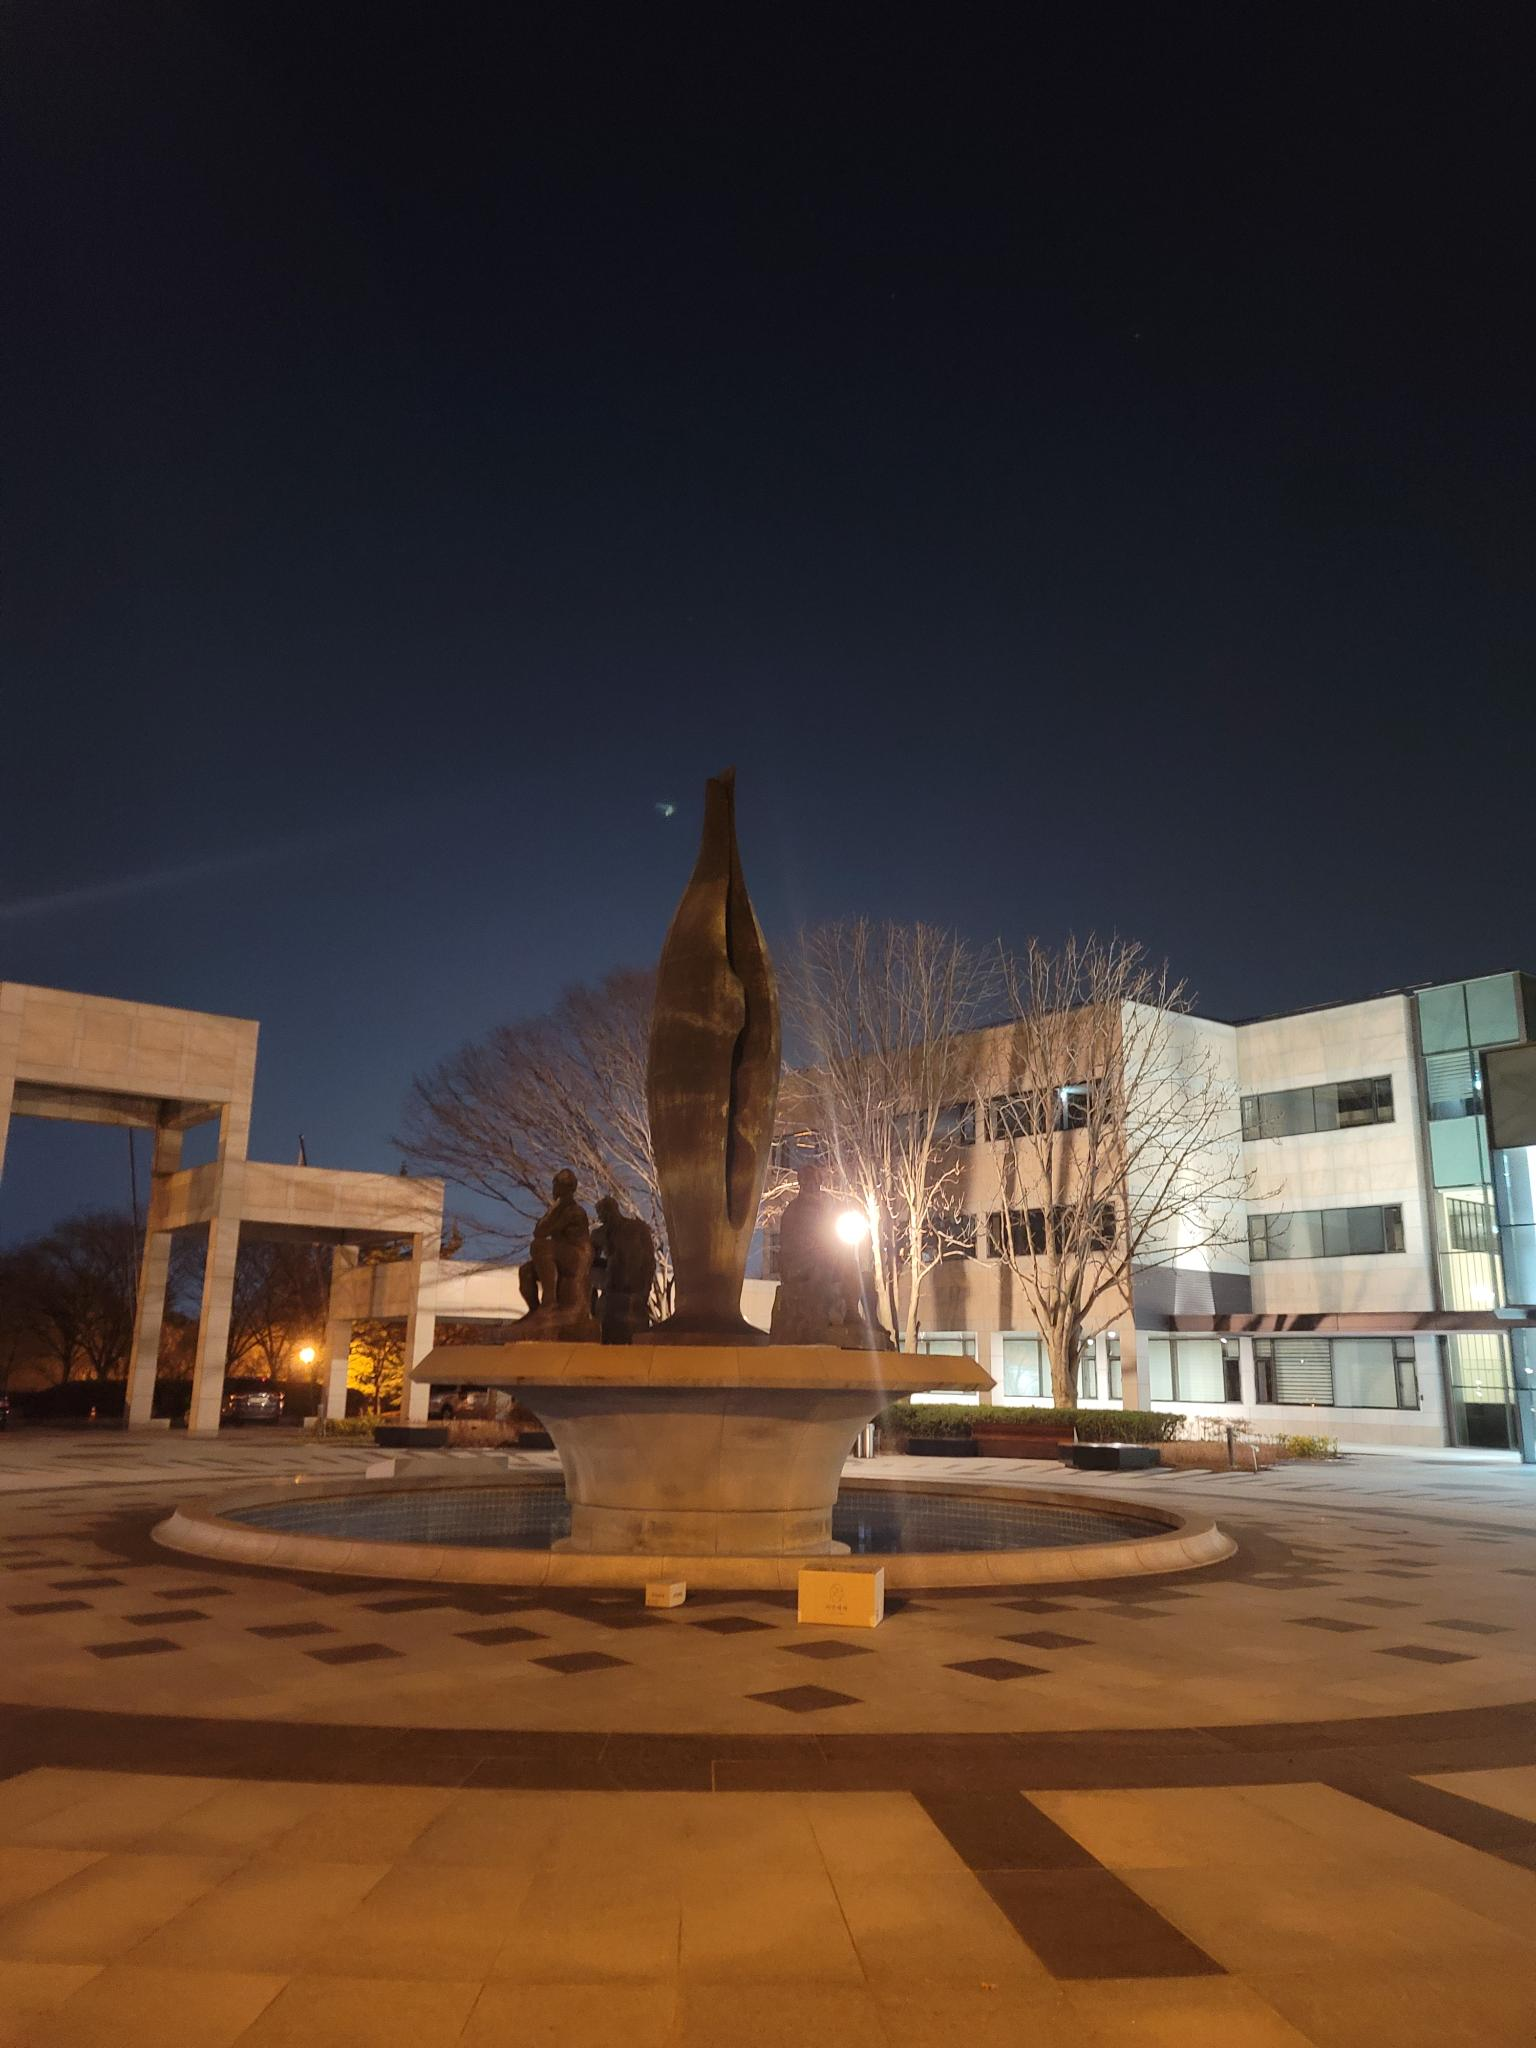Box: (787, 1555, 904, 1630), (641, 1572, 691, 1609)
